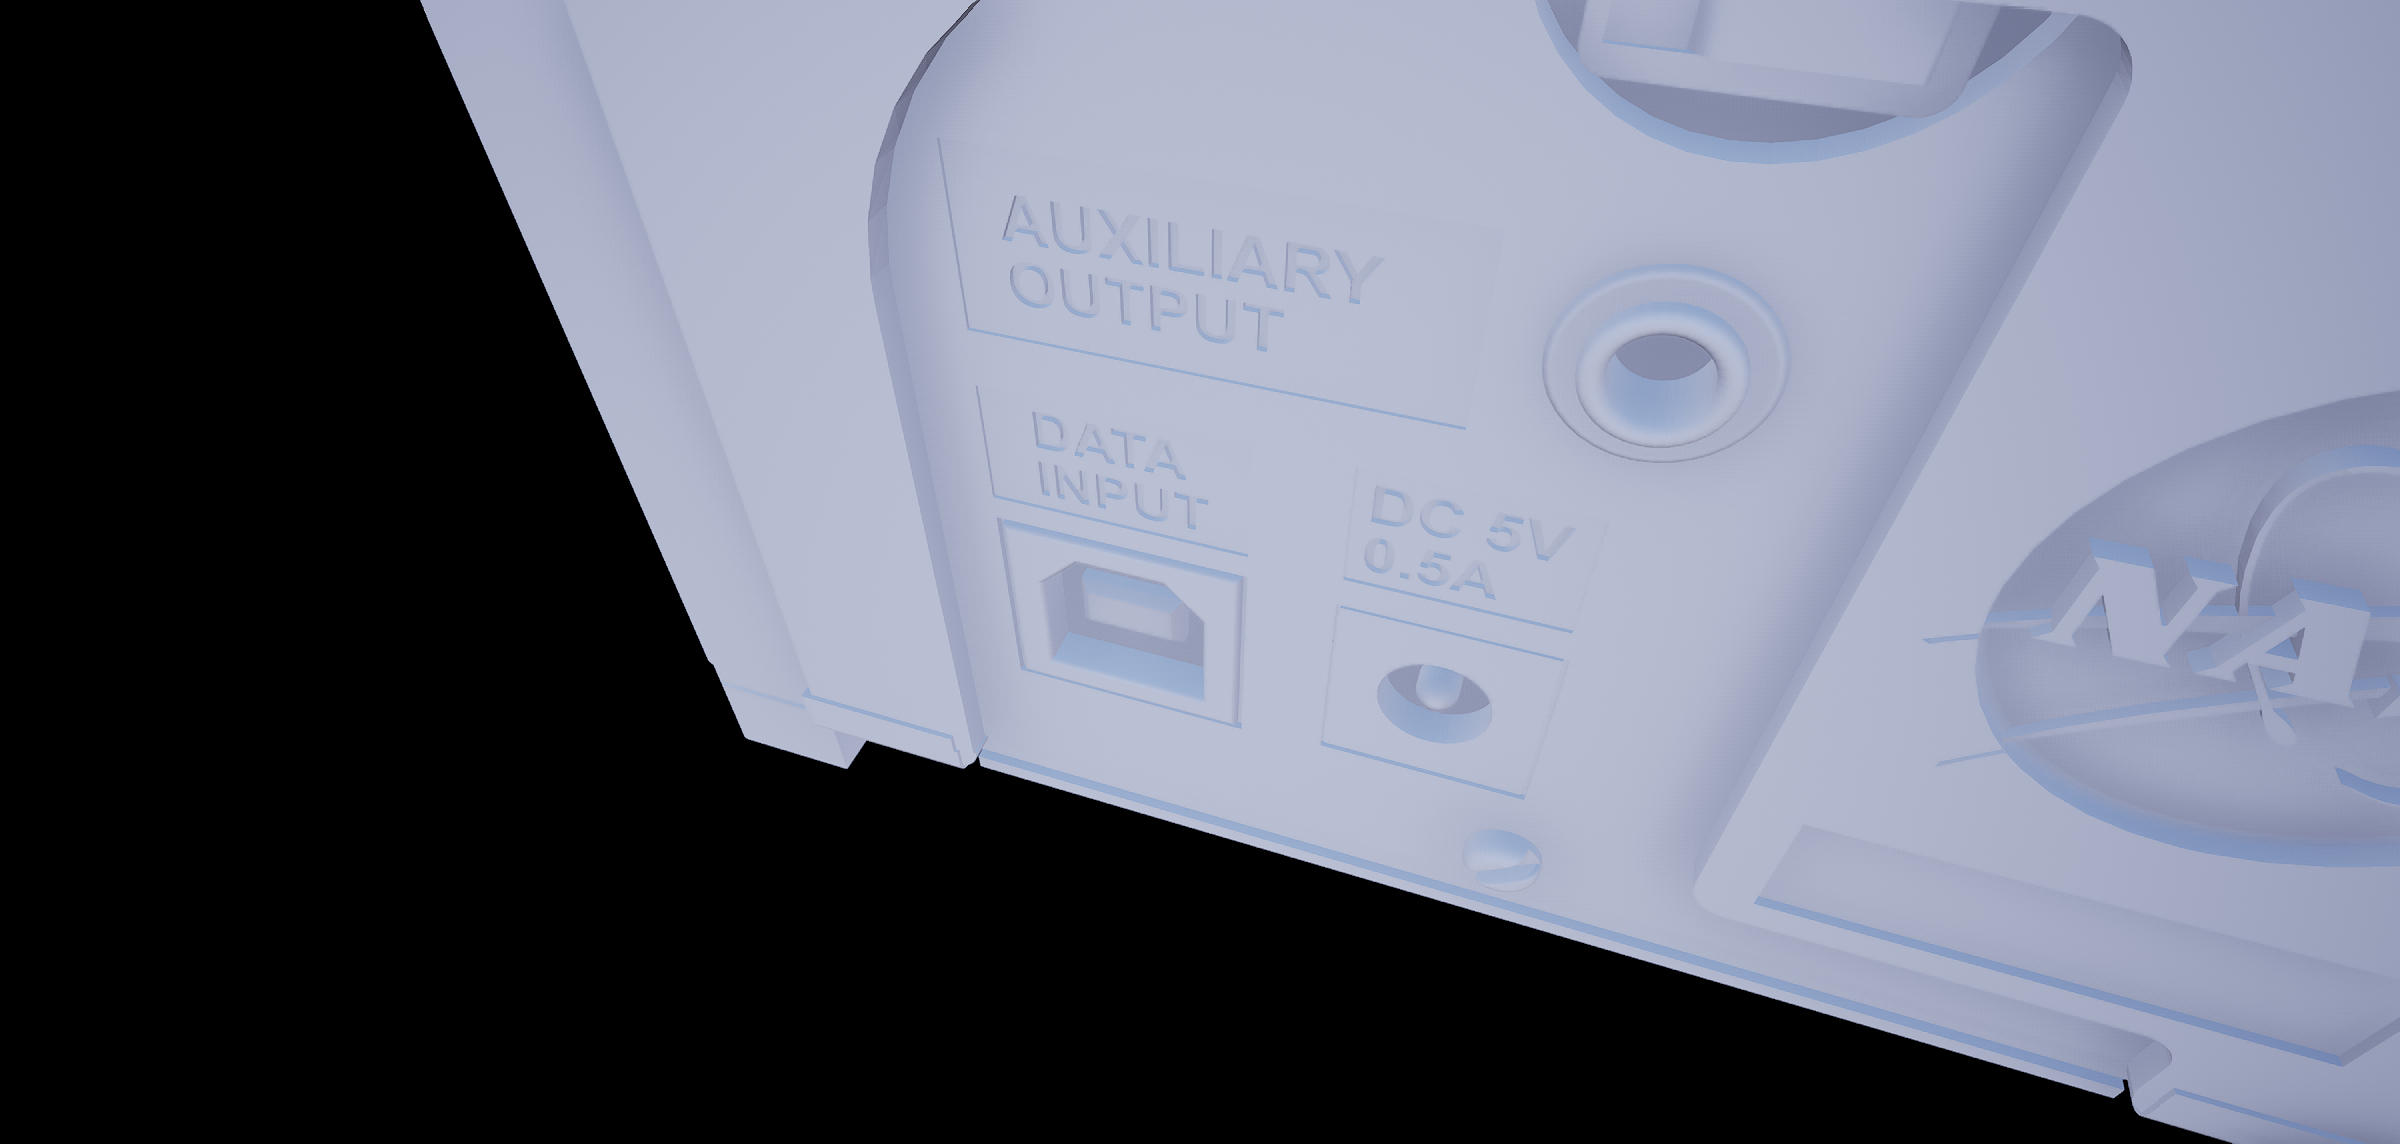aux: (1540, 234, 1792, 479)
dc: (1370, 651, 1500, 760)
usb: (1030, 544, 1226, 715)
